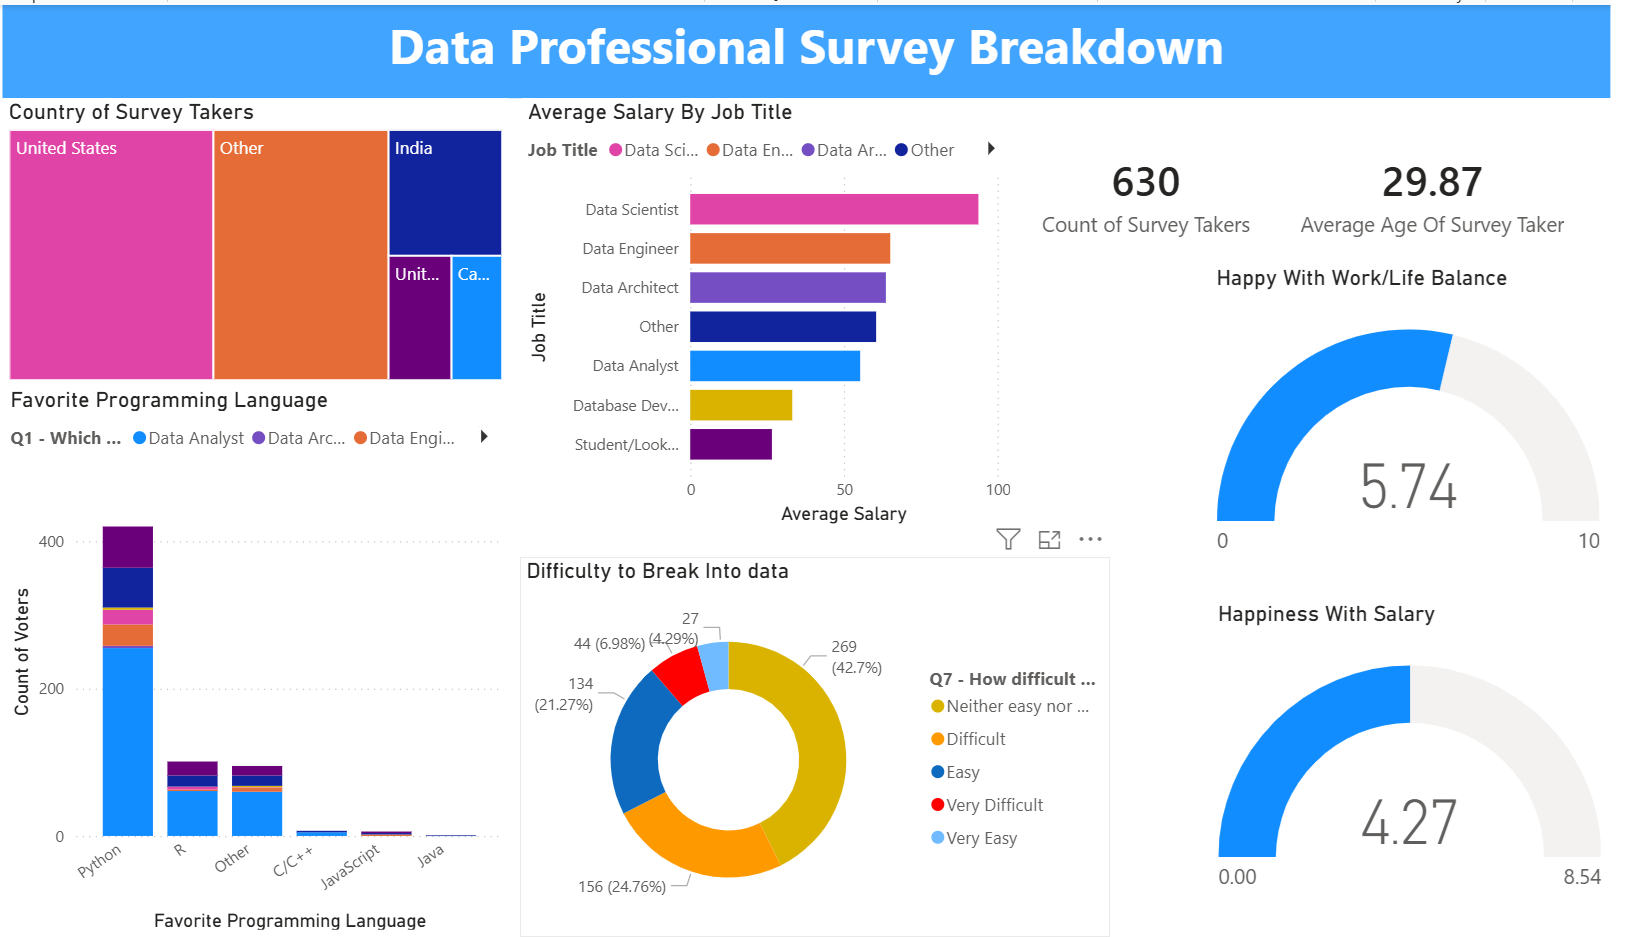

Layout of this report page (visuals, bound fields, positions):
{"tool":"powerbi","page":{"name":"Page 1","canvas":[1280,720],"ordinal":0},"visuals":[{"type":"textbox","box":[10.4,0,1242.2,71.8],"z":0},{"type":"cardVisual","fields":{"Data":["CountNonNull(Data Professional Survey.Unique ID)"]},"box":[783.3,71.8,221.3,149.5],"z":1000},{"type":"cardVisual","fields":{"Data":["Avg(Data Professional Survey.Q10 - Current Age)"]},"box":[978,71.8,274.6,149.5],"z":2000},{"type":"barChart","title":"Average Salary By Job Title","fields":{"Y":["Avg(Data Professional Survey.Average Salary)"],"Category":["Data Professional Survey.Q1 - Which Title Best Fits your Current Role?.1"],"Series":["Data Professional Survey.Q1 - Which Title Best Fits your Current Role?.1"]},"box":[411.3,71.8,382.4,333.7],"z":3000},{"type":"columnChart","title":"Favorite Programming Language","fields":{"Category":["Data Professional Survey.Q5 - Favorite Programming Language.1"],"Y":["CountNonNull(Data Professional Survey.Unique ID)"],"Series":["Data Professional Survey.Q1 - Which Title Best Fits your Current Role?.1"]},"box":[11.6,294.3,390.5,425.3],"z":4000},{"type":"treemap","title":"Country of Survey Takers","fields":{"Group":["Data Professional Survey.Q11 - Which Country do you live in?.1"],"Values":["CountNonNull(Data Professional Survey.Q11 - Which Country do you live in?.1)"]},"box":[10.4,71.8,390.5,222.5],"z":5000},{"type":"gauge","title":"Happy With Work/Life Balance","fields":{"Y":["Avg(Data Professional Survey.Q6 - How Happy are you in your Current Position with the following? (Work/Life Balance))"],"MinValue":["Min(Data Professional Survey.Q6 - How Happy are you in your Current Position with the following? (Work/Life Balance))1"],"MaxValue":["Max(Data Professional Survey.Q6 - How Happy are you in your Current Position with the following? (Work/Life Balance))2"]},"box":[946.7,200.5,305.9,259.6],"z":6000},{"type":"gauge","title":"Happiness With Salary","fields":{"Y":["Avg(Data Professional Survey.Q6 - How Happy are you in your Current Position with the following? (Salary))"]},"box":[946.7,460,305.9,259.6],"z":7000},{"type":"donutChart","title":"Difficulty to Break Into data","fields":{"Y":["CountNonNull(Data Professional Survey.Q7 - How difficult was it for you to break into Data?)"],"Category":["Data Professional Survey.Q7 - How difficult was it for you to break into Data?"]},"box":[410.2,426.4,455.4,293.2],"z":7001}]}

Visuals, with their boxes in screenshot pixels (x1, y1, x2, y2), scaled from the page's 1280x720 canvas onto the 1625x937 screenshot:
textbox: 13, 0, 1590, 93
cardVisual - CountNonNull(Data Professional Survey.Unique ID): 994, 93, 1275, 288
cardVisual - Avg(Data Professional Survey.Q10 - Current Age): 1242, 93, 1590, 288
"Average Salary By Job Title" barChart: 522, 93, 1008, 528
"Favorite Programming Language" columnChart: 15, 383, 510, 936
"Country of Survey Takers" treemap: 13, 93, 509, 383
"Happy With Work/Life Balance" gauge: 1202, 261, 1590, 599
"Happiness With Salary" gauge: 1202, 599, 1590, 936
"Difficulty to Break Into data" donutChart: 521, 555, 1099, 936
